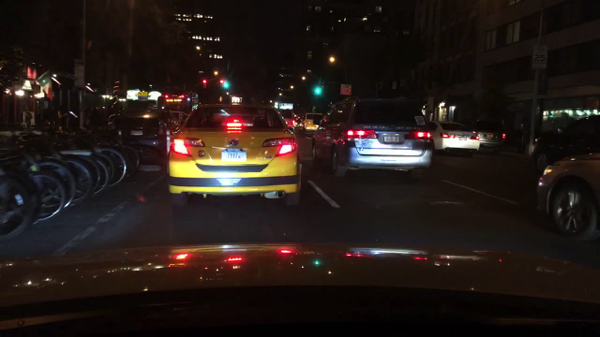bike: (1, 141, 111, 200), (26, 127, 129, 189), (10, 140, 115, 200), (15, 132, 118, 190), (52, 126, 143, 186), (2, 146, 104, 199), (0, 151, 95, 207), (2, 161, 68, 222), (1, 162, 79, 211), (1, 167, 44, 241)
bus: (157, 89, 194, 113)
car: (165, 102, 303, 211), (314, 96, 435, 180), (531, 151, 599, 246), (529, 118, 599, 162), (425, 120, 480, 154), (120, 111, 168, 149), (459, 118, 507, 150), (289, 130, 317, 160), (167, 113, 191, 132), (304, 113, 326, 131), (282, 109, 298, 128), (296, 115, 308, 128)
person: (53, 103, 66, 125), (23, 104, 33, 125)
traffic light: (314, 86, 323, 96), (222, 83, 230, 88), (220, 78, 225, 84), (202, 80, 207, 86)
traffic sign: (531, 43, 544, 69), (74, 59, 84, 87), (341, 84, 350, 94), (138, 92, 147, 101), (393, 82, 396, 89)
